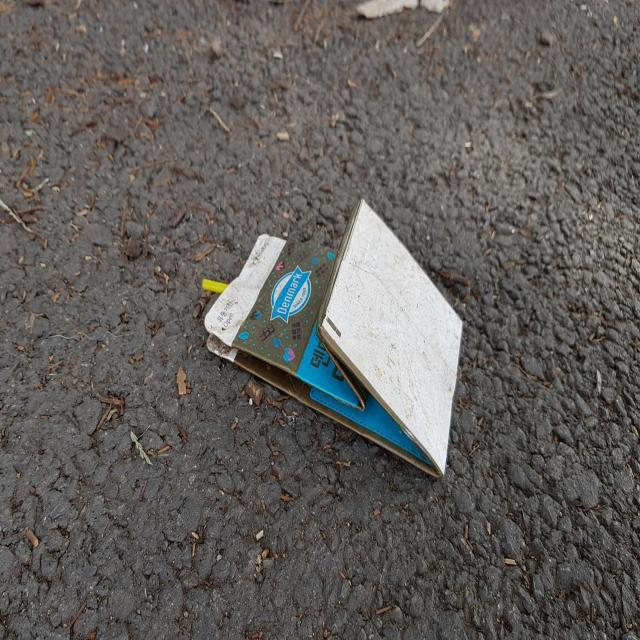paperpack: (204, 199, 463, 477)
